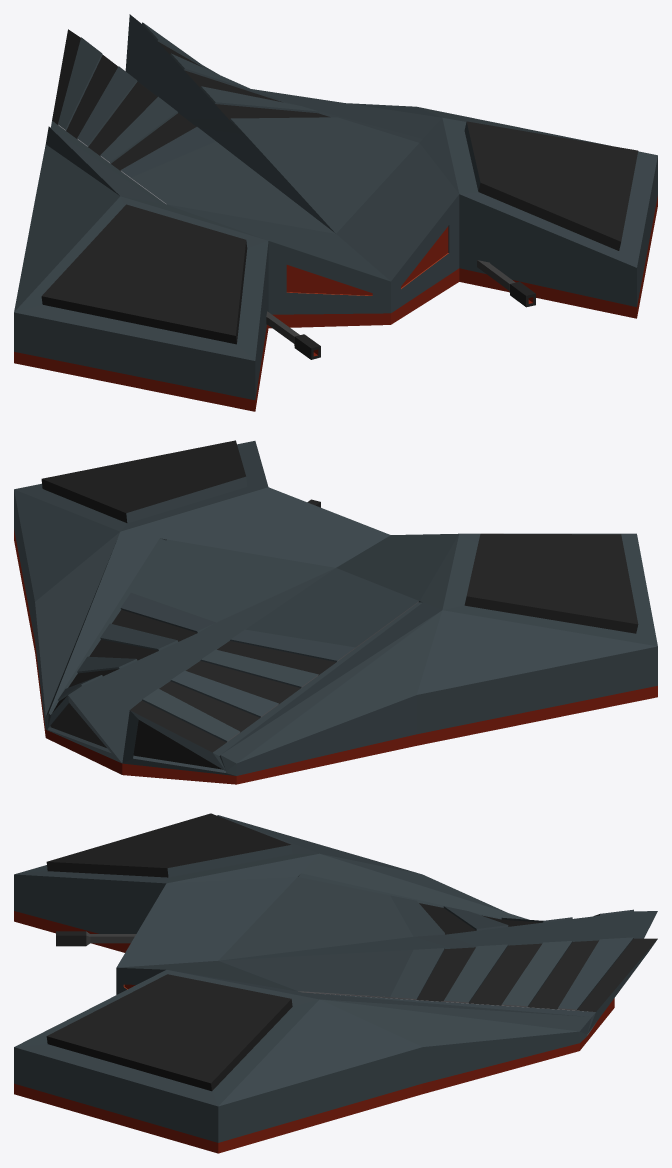
Rendered from Scarth.fbx.
The picture shows the model from 3 angles, top to bottom: view 1: azimuth 30°, elevation 25°; view 2: azimuth 150°, elevation 25°; view 3: azimuth 270°, elevation 25°; orthographic projection. The views are drawn at different scales.
Visible parts, largest first — view 1: Caza; view 2: Caza; view 3: Caza.
Boxes of the visible parts, <box> form: Caza: <box>14,14,657,411</box>; Caza: <box>14,440,657,784</box>; Caza: <box>14,813,657,1153</box>.
Bounding box in the file's own units: 346 × 48.05 × 323.
Materials: 1 (1 with a texture image).
